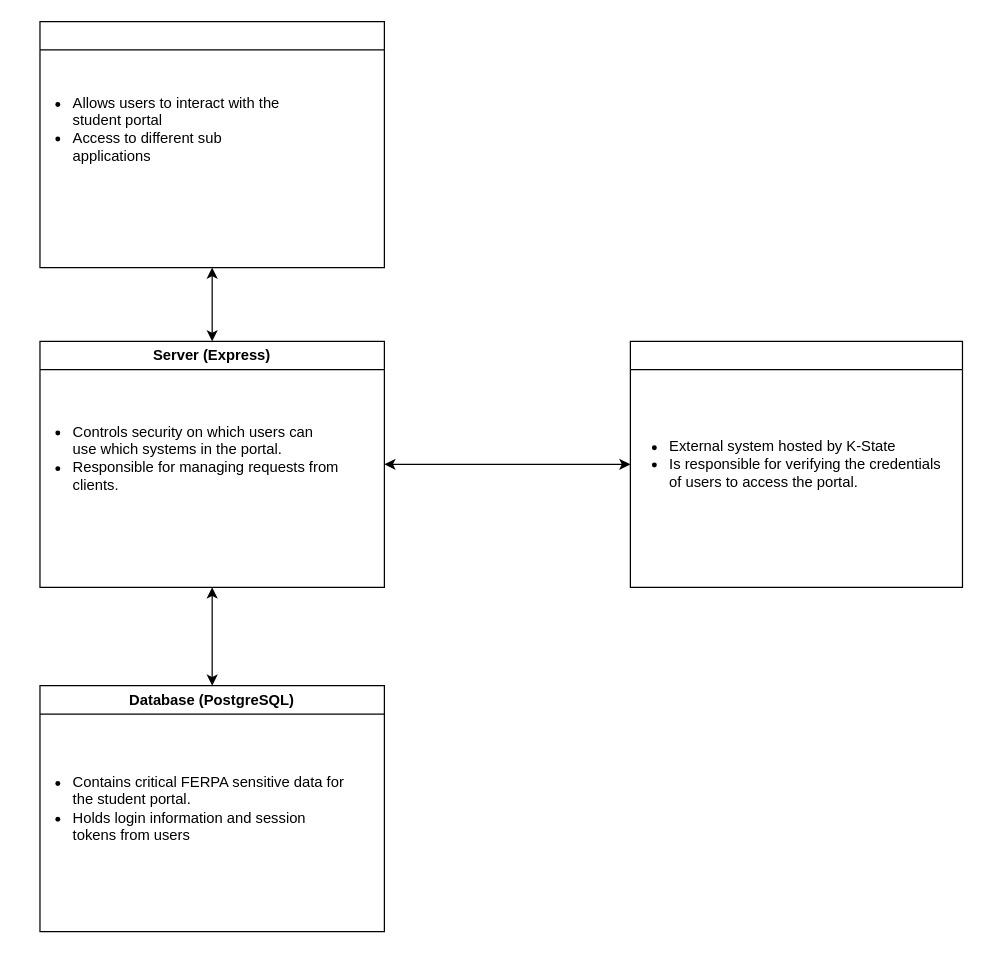
Some shapes in this 984 by 953 pixel diagram are drawn without their labels. The box of each missing label's shape, as (x1, y1, x2, y2) in pixels:
CAS Server: (629, 340, 962, 587)
Client (Vue): (39, 20, 384, 268)
